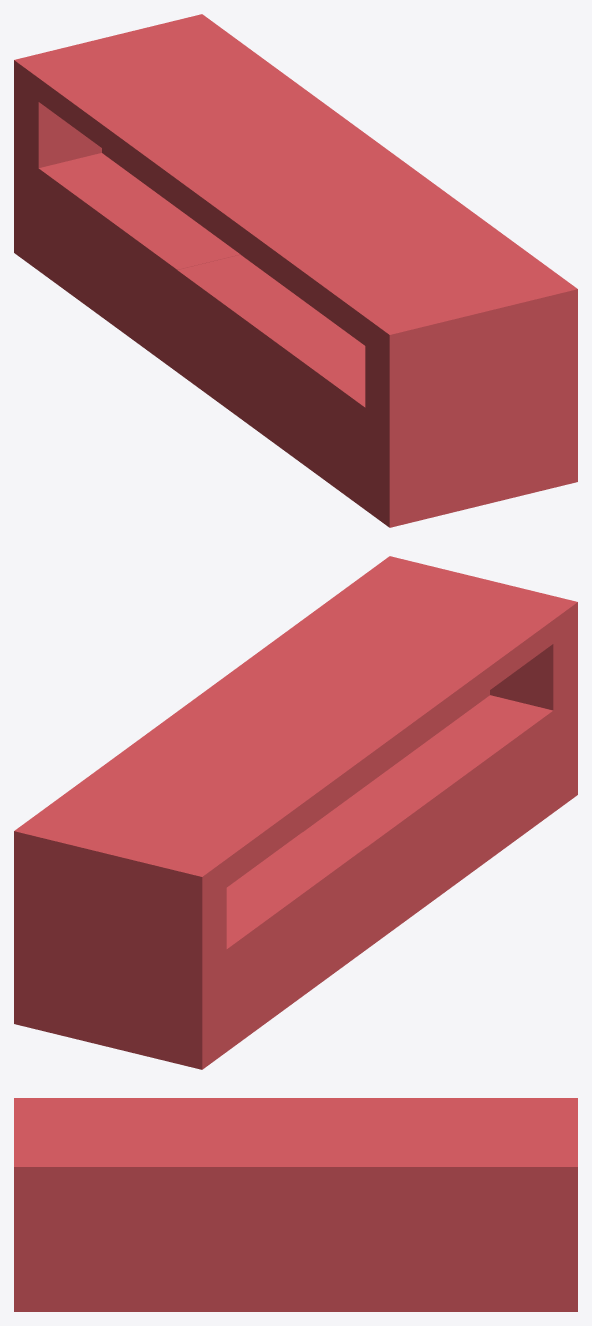
The model's file is Tv stand.fbx.
3 views of the same model, one above another, from view 1: azimuth 30°, elevation 25°; view 2: azimuth 150°, elevation 25°; view 3: azimuth 270°, elevation 25° (orthographic). The views are drawn at different scales.
Visible parts, largest first — view 1: Cube; view 2: Cube; view 3: Cube.
Boxes of the visible parts, box(x1,y1,x2,y2) form: Cube: box(14, 14, 577, 527); Cube: box(14, 556, 577, 1069); Cube: box(14, 1098, 577, 1311).
Bounding box in the file's own units: 57.84 × 56.64 × 200.
